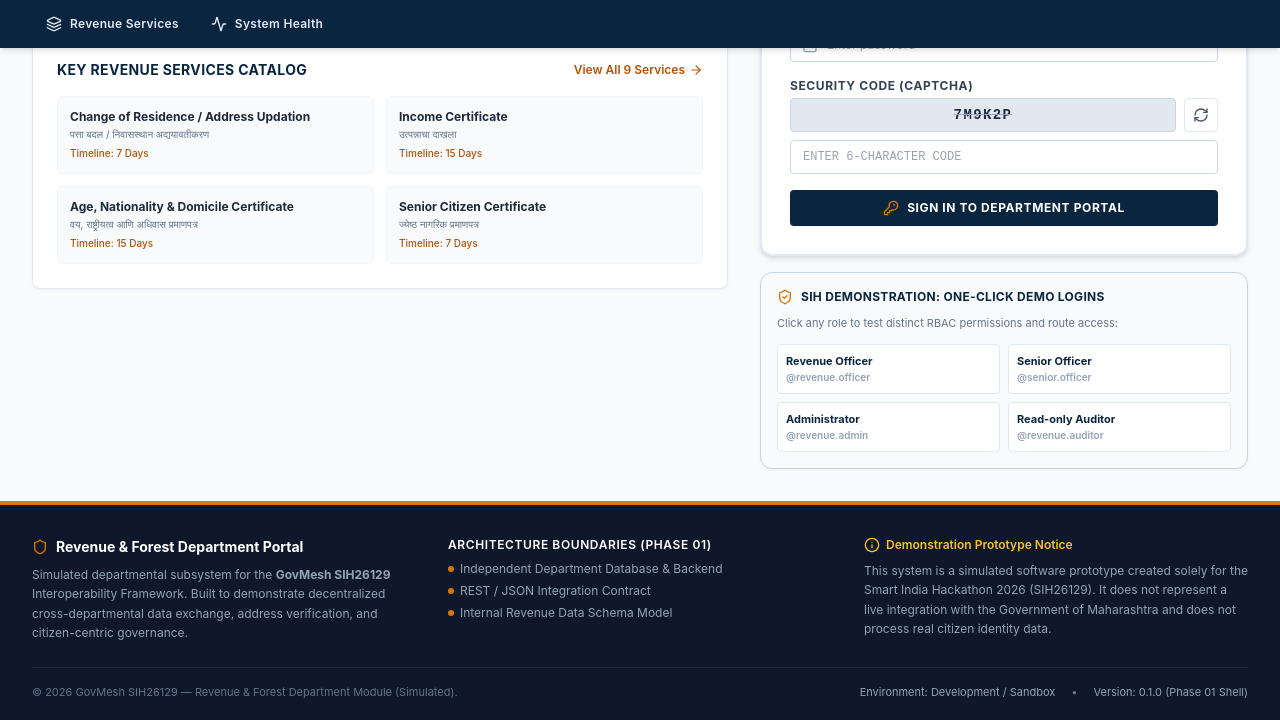
Scenario: Phase 11: Revenue Department Dashboard & Analytics UI › renders full dashboard analytics with statutory disclaimer and KPI cards after login
The image size is (1280, 720).
(page scrolled)
Click the text "Revenue Officer" at (829, 360), box [786, 354, 873, 368]
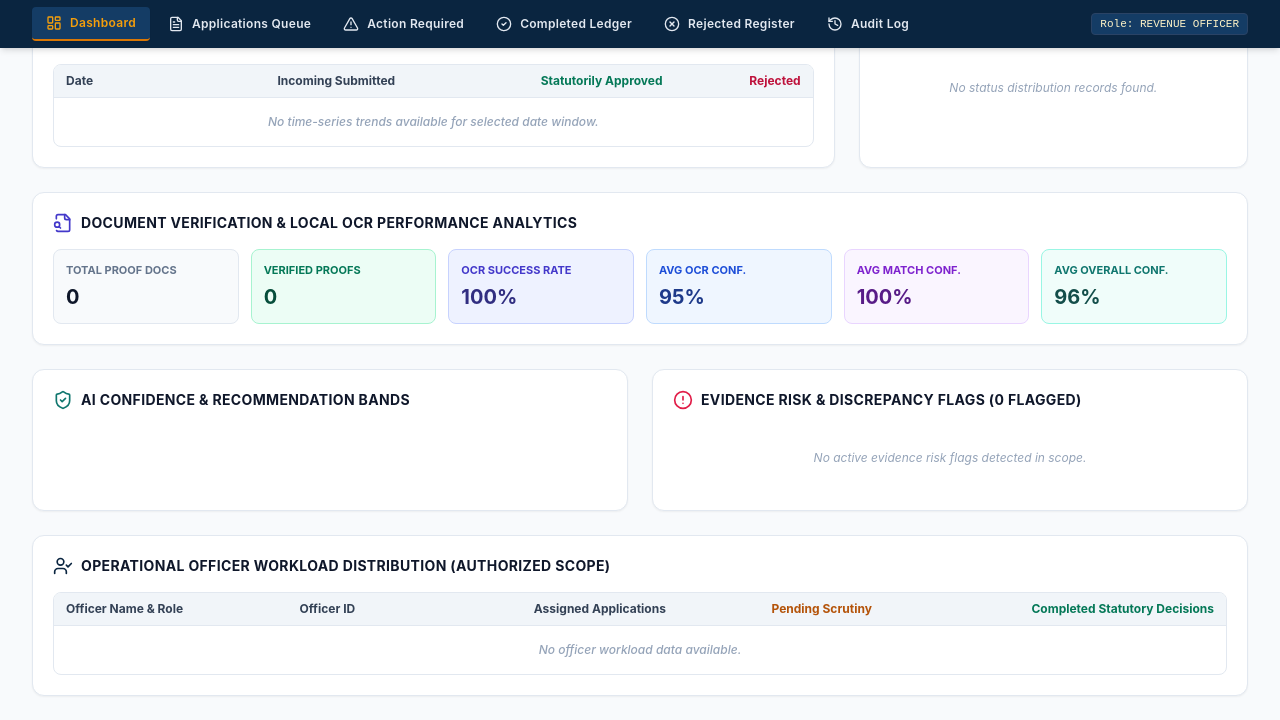
Now the heading "Document Verification & Local OCR Performance Analytics" is shown, box [81, 213, 577, 233]
Now the heading "AI Confidence & Recommendation Bands" is shown, box [81, 390, 410, 410]
Now the heading "Operational Officer Workload Distribution (Authorized Scope)" is shown, box [81, 556, 610, 576]
